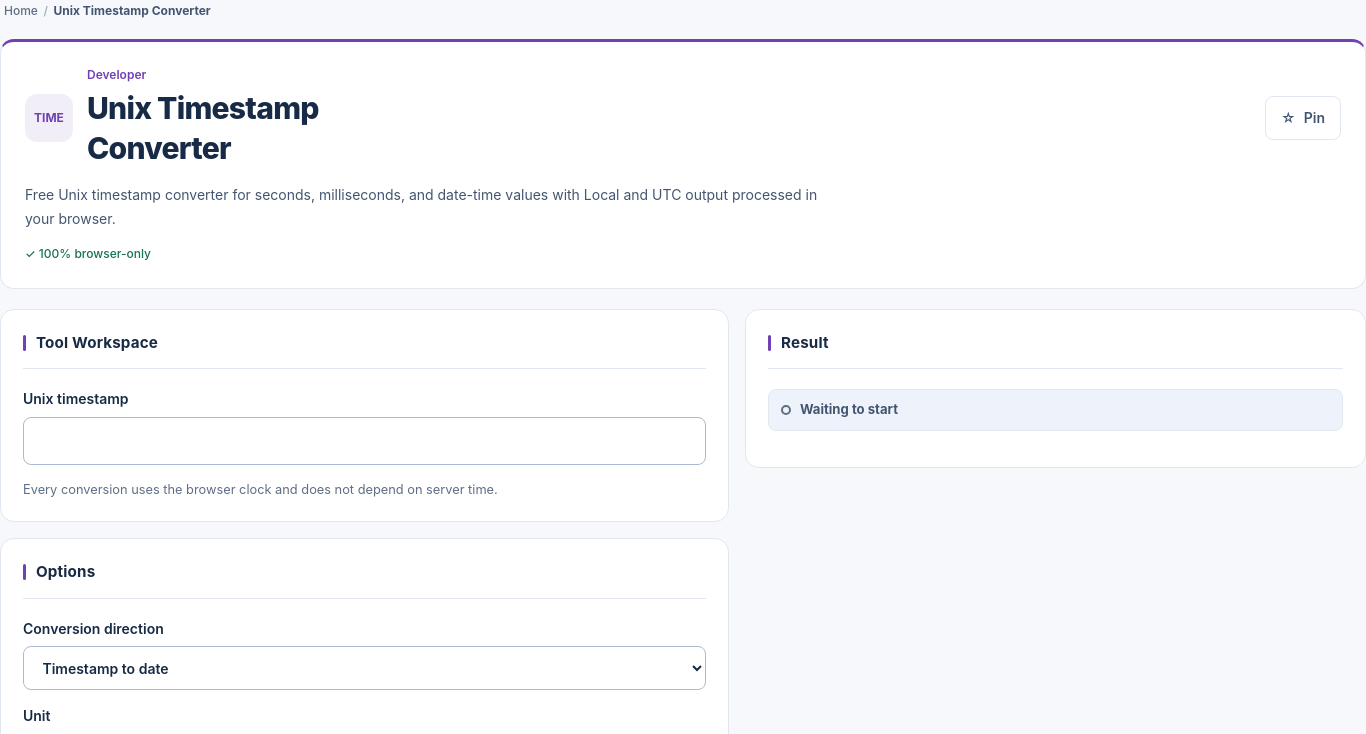
Scenario: UnixTimestampPage › converts a pre-1970 UTC date to negative seconds and milliseconds
Select "Date to timestamp" in the dropdown labelled "Conversion direction" at (364, 668), box [23,646,706,690]
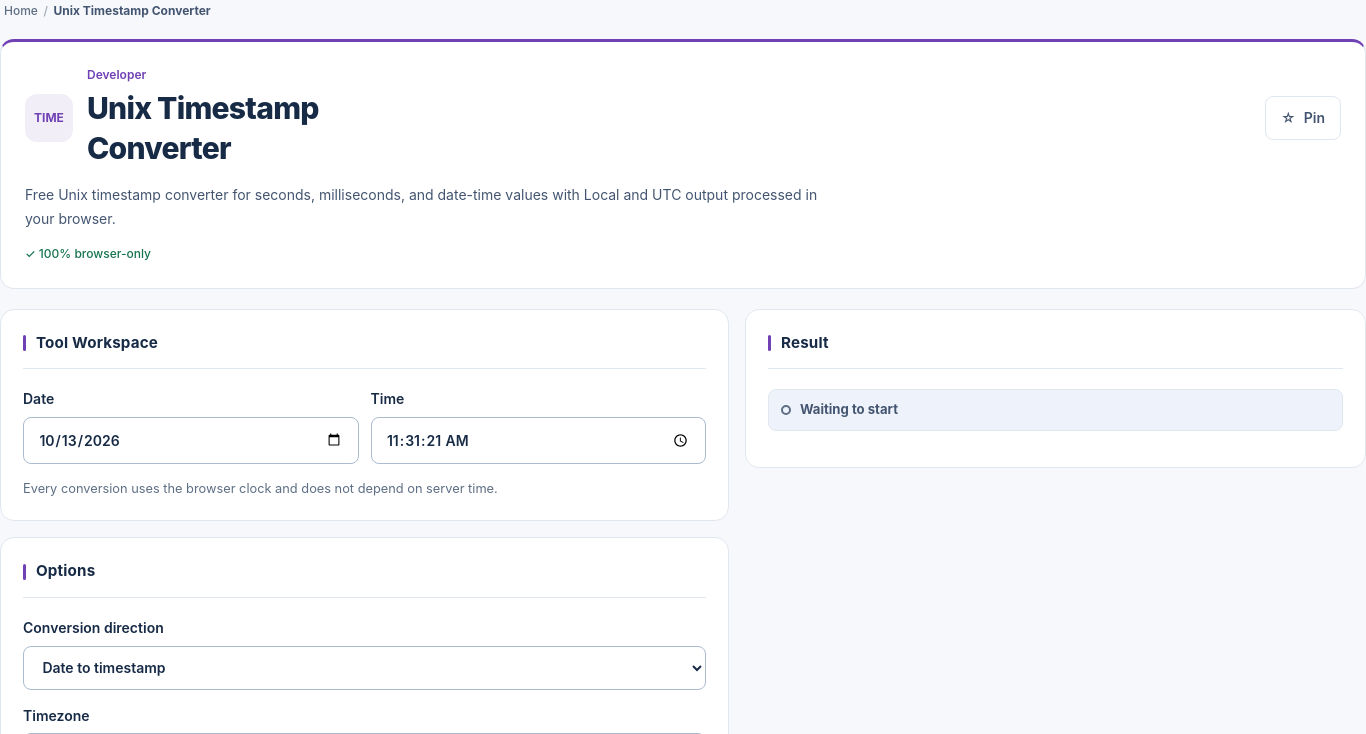
Type "1969-12-31" into the date field labelled "Date" at (191, 440), box [23,417,358,464]
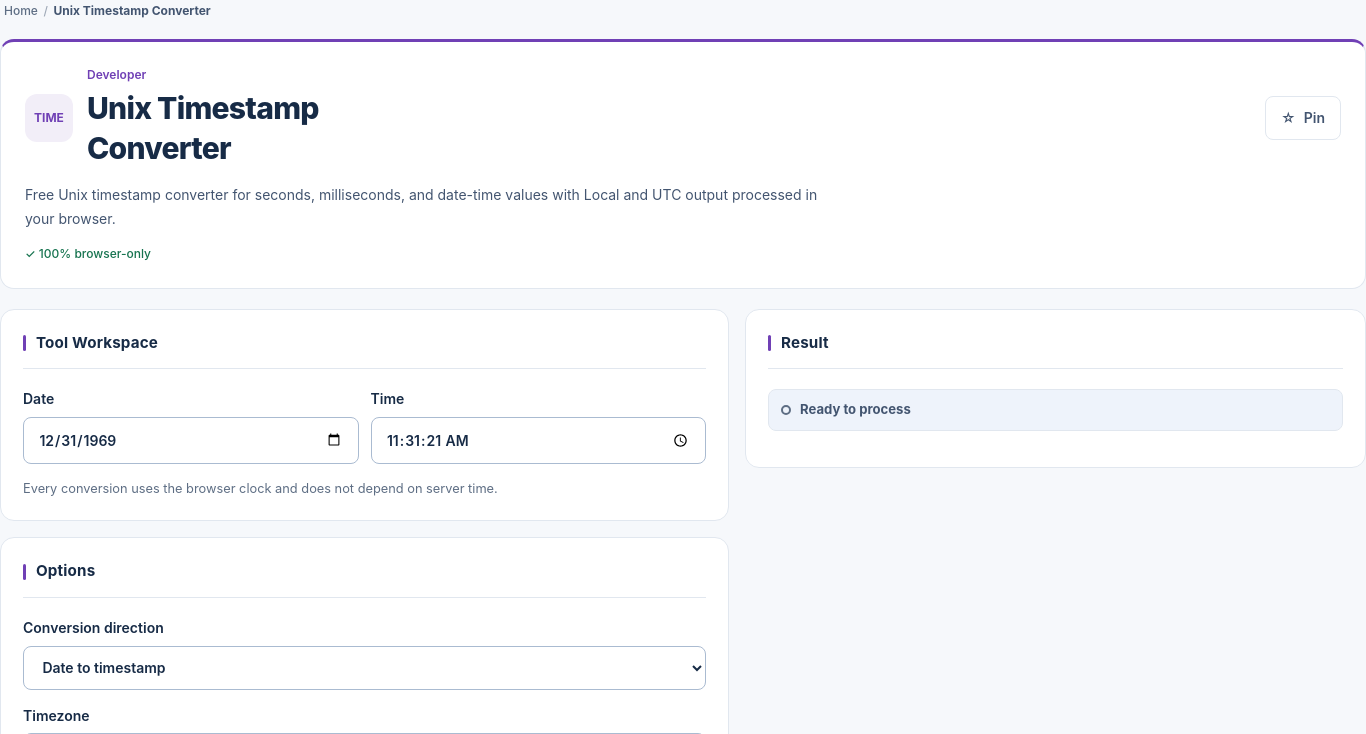
Replace the text in the time field labelled "Time" with "23:59:59" at (538, 440), box [370,417,706,464]
(page scrolled)
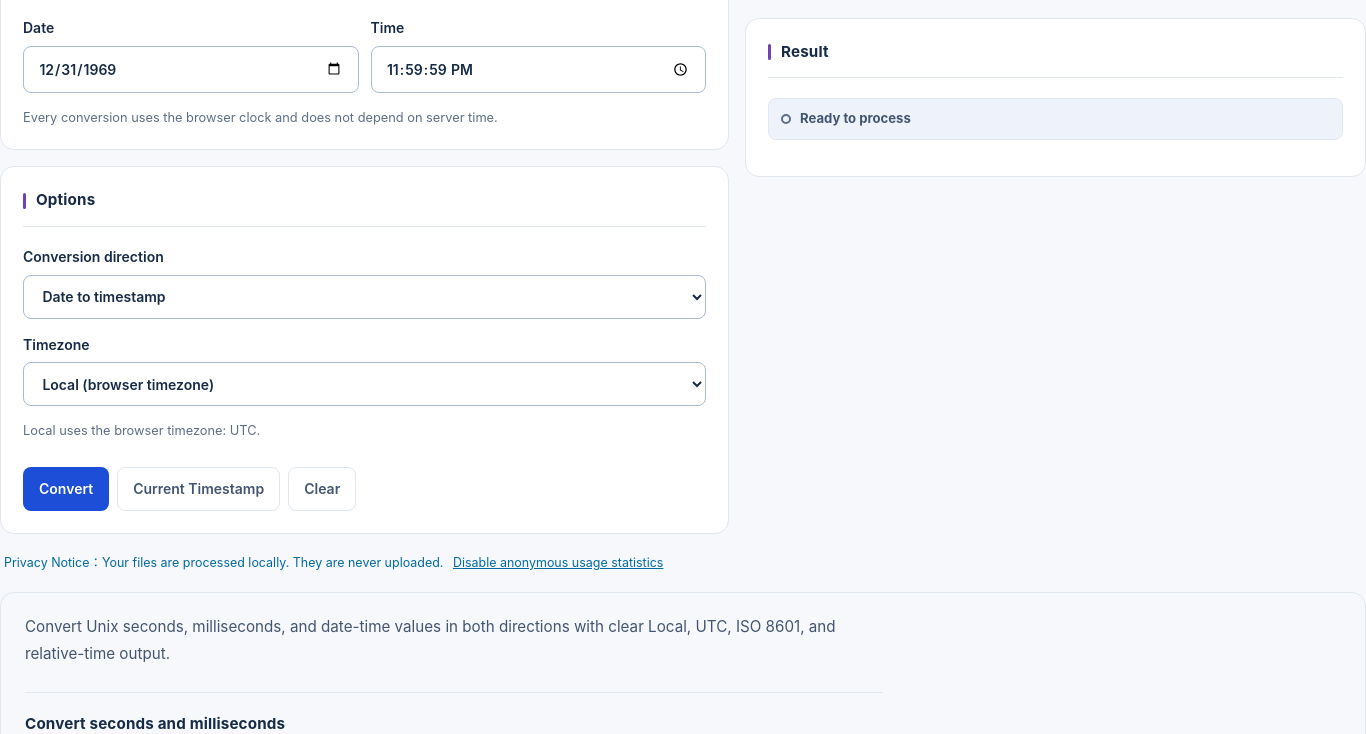
Select "UTC" in the dropdown labelled "Timezone" at (364, 384), box [23,362,706,406]
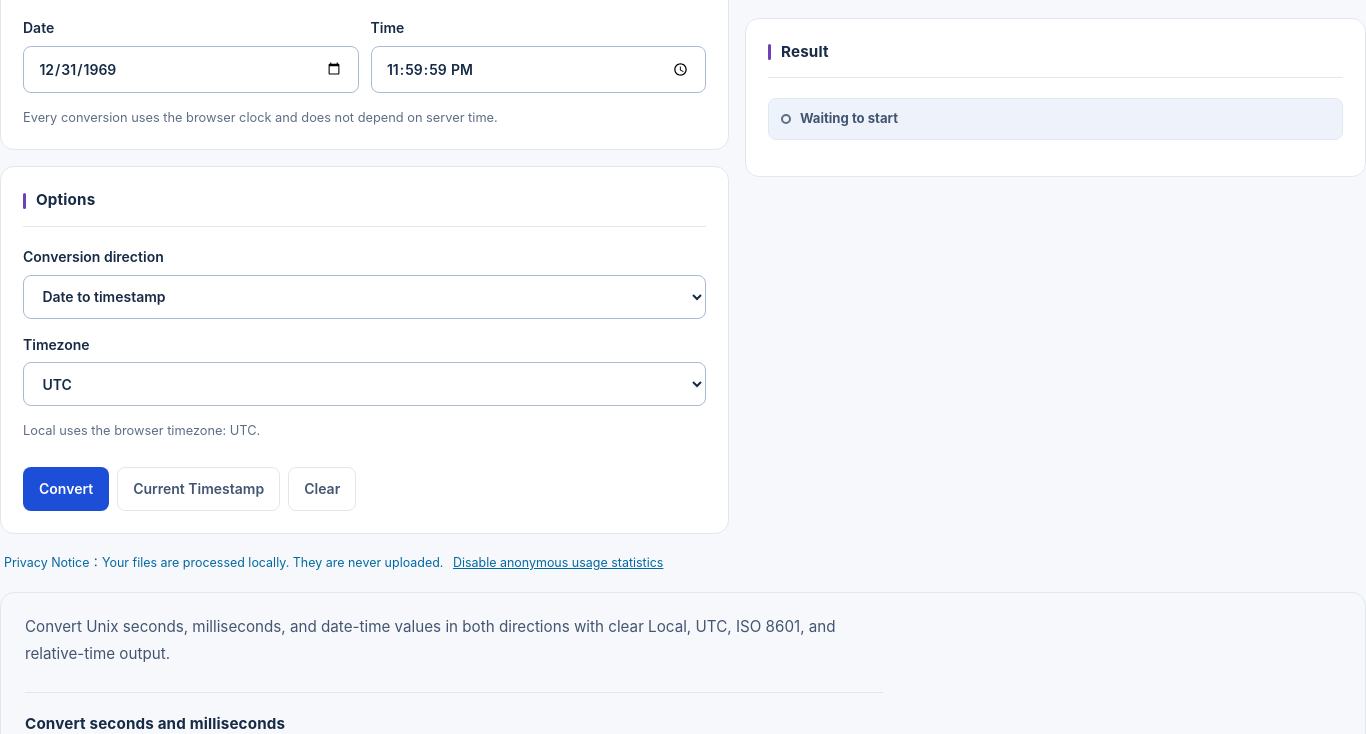
Click the button "Convert" at (66, 489), box [23,467,109,511]
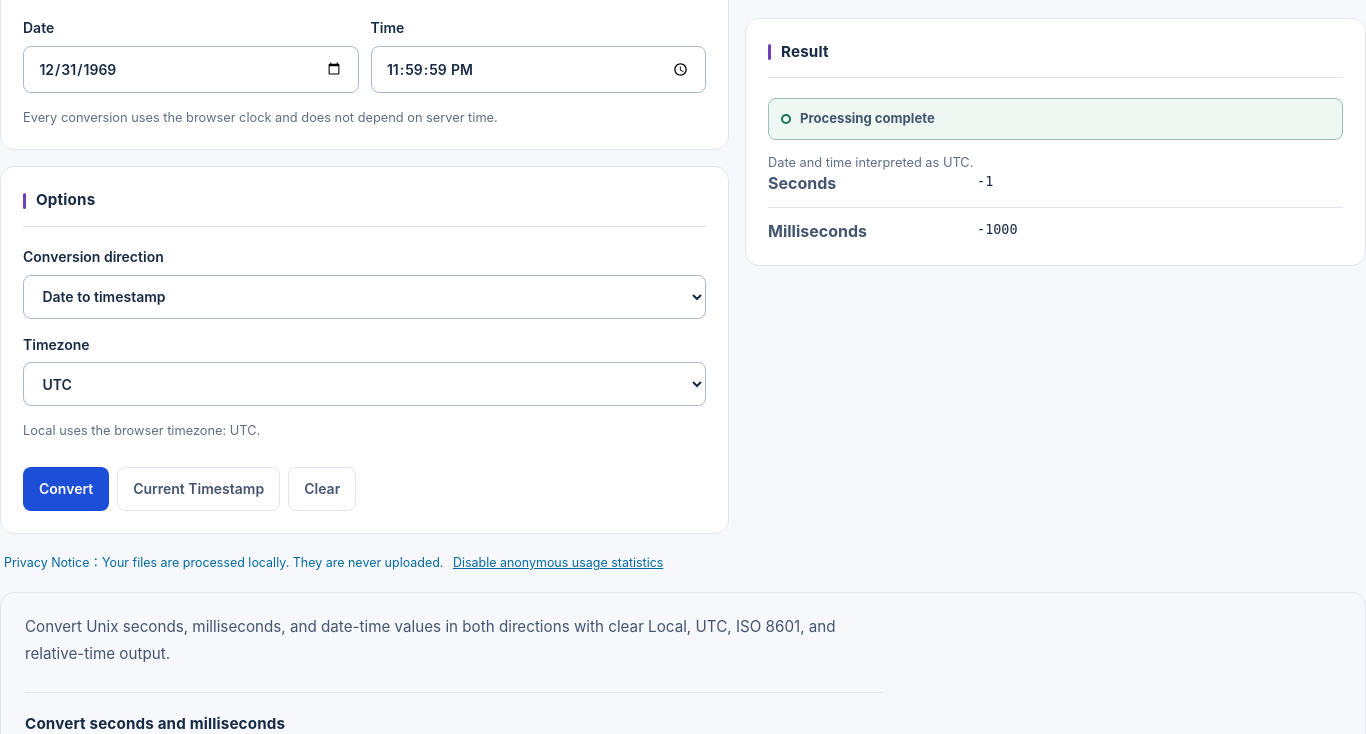
Expected: the text with test id "unix-result-seconds" reads "-1", [977,174,993,189]
Expected: the text with test id "unix-result-milliseconds" reads "-1000", [977,223,1018,238]
